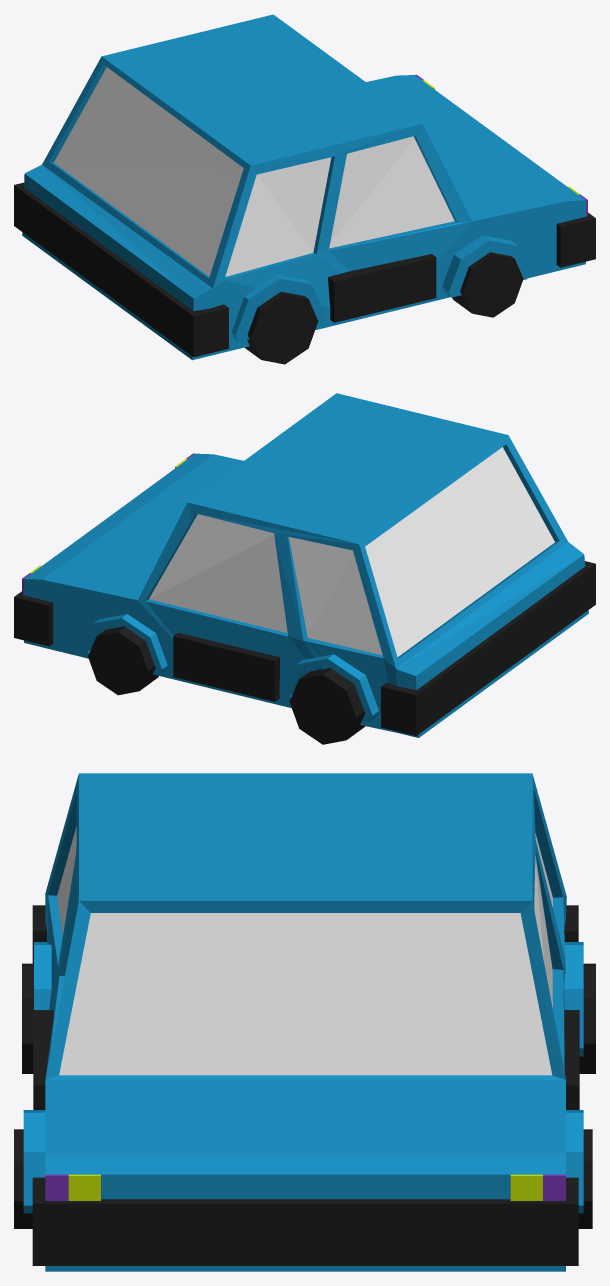
File: car.obj
The picture shows the model from 3 angles, top to bottom: view 1: azimuth 30°, elevation 25°; view 2: azimuth 150°, elevation 25°; view 3: azimuth 270°, elevation 25°; orthographic projection. The views are drawn at different scales.
Parts seen in each view (by area): view 1: Cilindro.2; view 2: Cilindro.2; view 3: Cilindro.2.
Boxes of the visible parts, left/top/right/bottom form: Cilindro.2: left=14, top=14, right=595, bottom=364; Cilindro.2: left=14, top=393, right=595, bottom=744; Cilindro.2: left=14, top=773, right=595, bottom=1271.
Bounding box in the file's own units: 42.54 × 19.25 × 35.06.
